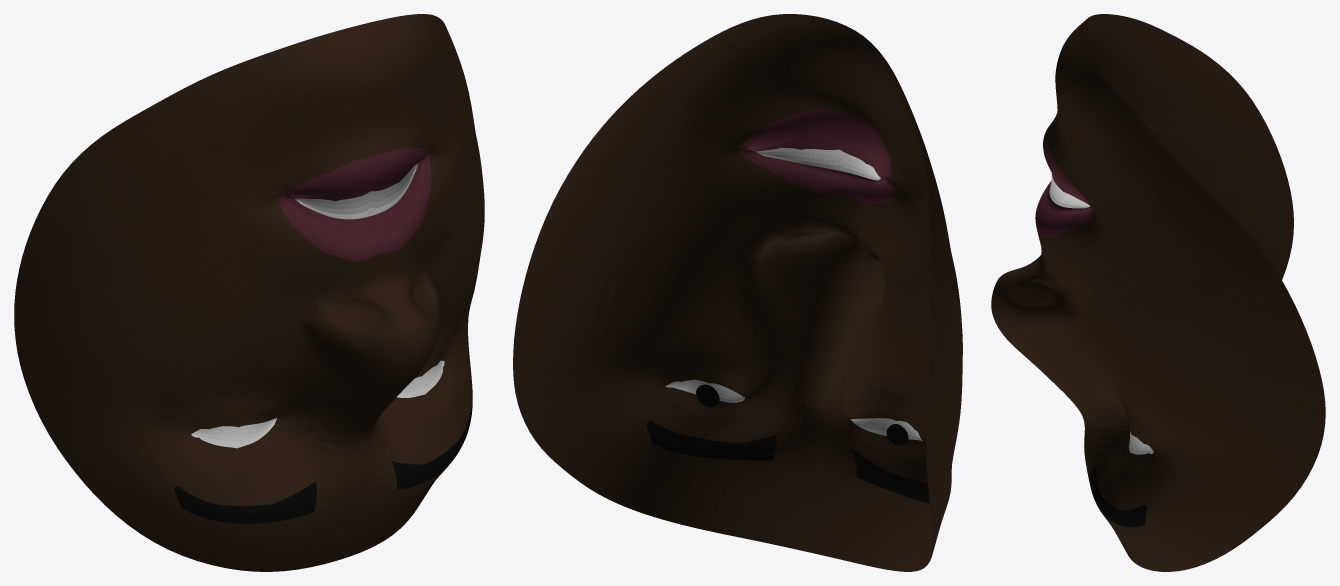
Rendered from crying2.obj.
3 renders of one model, left to right at view 1: azimuth 30°, elevation 25°; view 2: azimuth 150°, elevation 25°; view 3: azimuth 270°, elevation 25°, orthographic. The views are drawn at different scales.
Parts seen in each view (by area): view 1: face_mesh_subdivided; view 2: face_mesh_subdivided; view 3: face_mesh_subdivided.
Boxes of the visible parts, x1=… form: face_mesh_subdivided: x1=14, y1=14, x2=484, y2=571; face_mesh_subdivided: x1=513, y1=14, x2=962, y2=571; face_mesh_subdivided: x1=991, y1=14, x2=1325, y2=571.
Bounding box in the file's own units: 0.6082 × 0.7558 × 0.4531.
